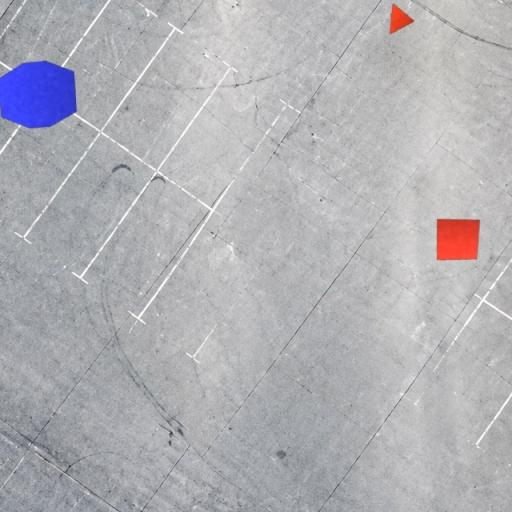RED_SQUARE: (436, 218, 481, 261)
